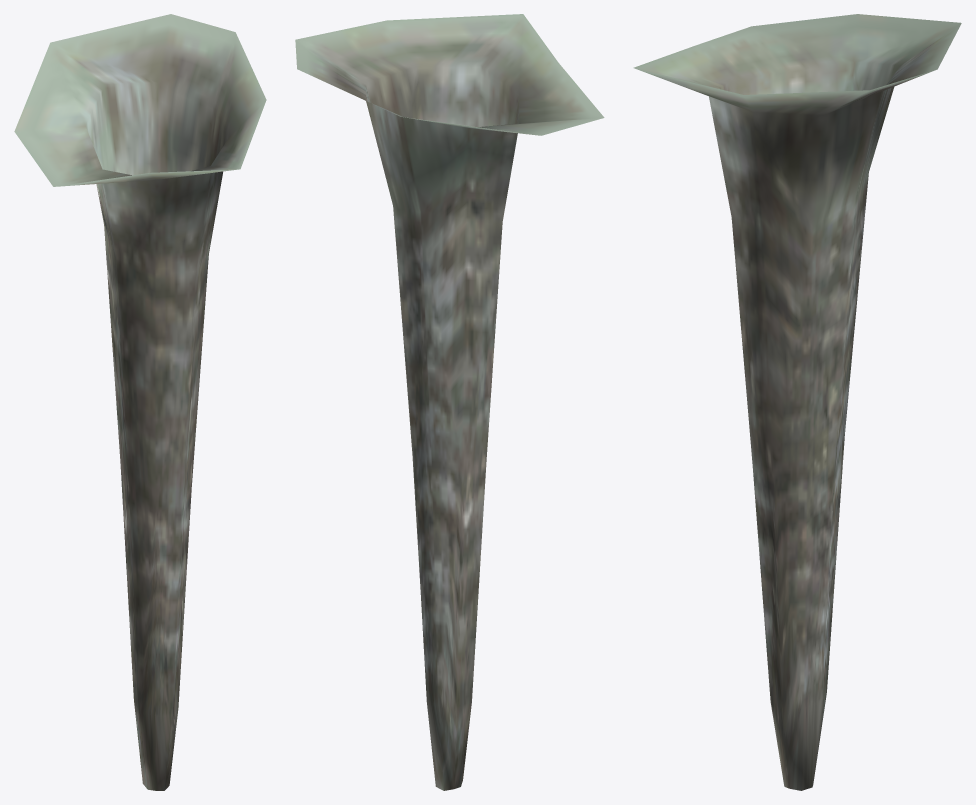
The model's file is TROLLHOLE02_PS-MAINSTALAG62.fbx.
3 renders of one model, left to right at view 1: azimuth 30°, elevation 25°; view 2: azimuth 150°, elevation 25°; view 3: azimuth 270°, elevation 25°, orthographic. The views are drawn at different scales.
Parts seen in each view (by area): view 1: TROLLHOLE02_PS-MAINSTALAG62; view 2: TROLLHOLE02_PS-MAINSTALAG62; view 3: TROLLHOLE02_PS-MAINSTALAG62.
Part boxes in pixels (bbox=[...]): TROLLHOLE02_PS-MAINSTALAG62: bbox=[14, 14, 266, 790]; TROLLHOLE02_PS-MAINSTALAG62: bbox=[295, 14, 604, 790]; TROLLHOLE02_PS-MAINSTALAG62: bbox=[633, 14, 961, 790].
Size of the model in its own units: 17516 by 49985 by 19552.
1 material, 1 textured.
